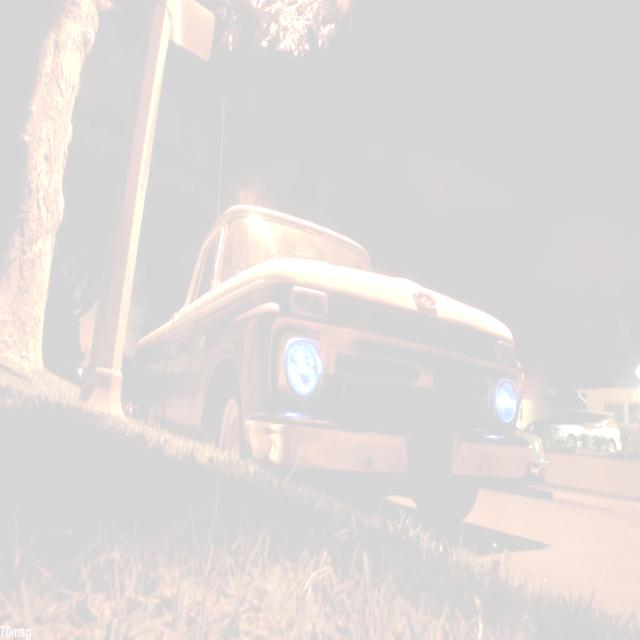Car: (120, 201, 550, 550)
